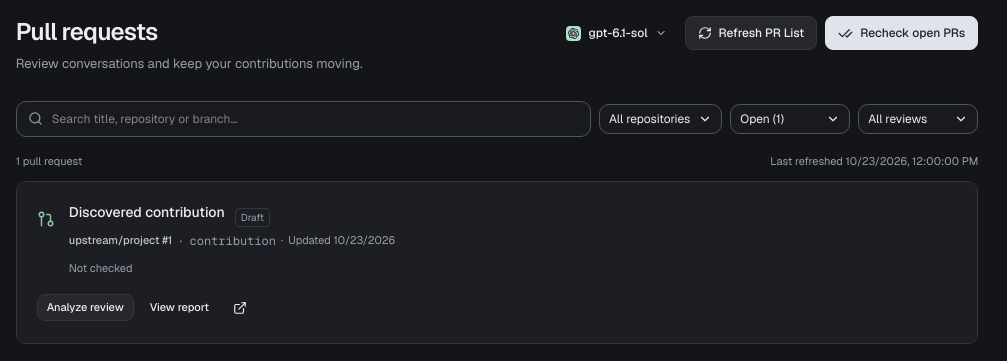
Test: defaults to open PRs and displays merged and closed history without pending-check badges
The width and height of the screenshot is (1007, 361).
Expected: the button "Merged contribution" is not shown
Click the dropdown named "Filter by status": (790, 119) [730,104,850,134]
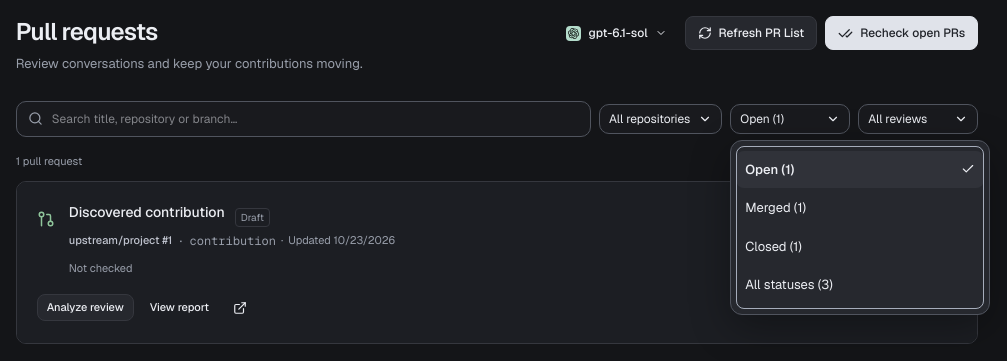
Click the option "Merged (1)": (776, 208) [745,199,806,216]
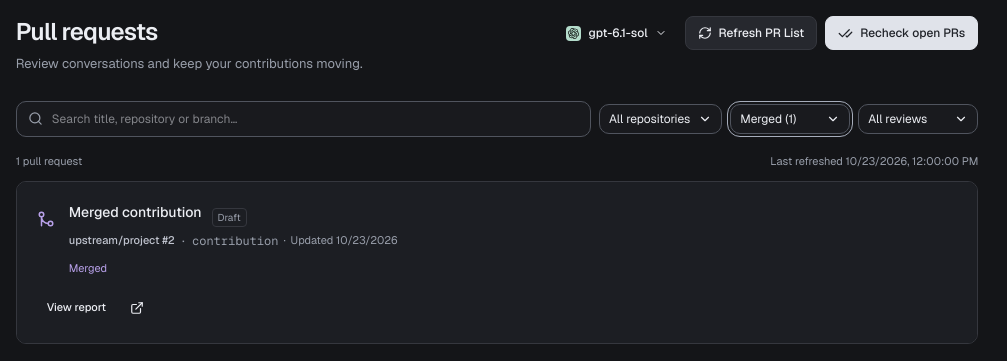
Expected: the text "Merged" is shown, [69,260,107,277]
Expected: the text "Not checked" is gone
Expected: the button "Analyze review" is gone
Click the dropdown named "Filter by status": (790, 119) [730,104,850,134]
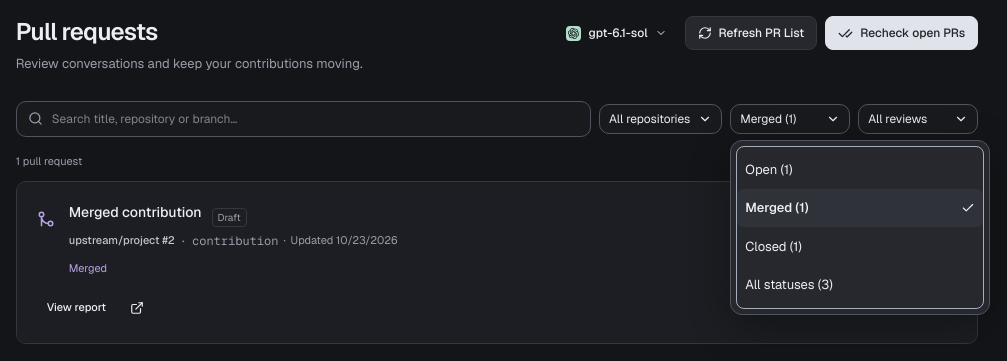
Click the option "Closed (1)": (774, 246) [745,238,802,255]
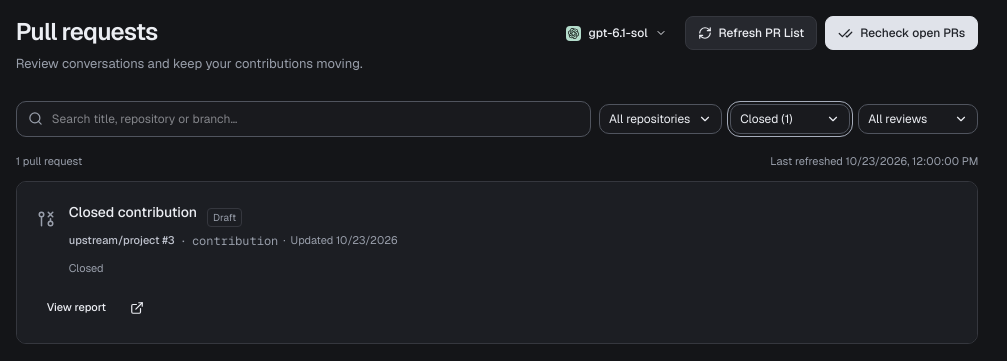
Expected: the button "Closed contribution" is shown, [69,202,197,223]
